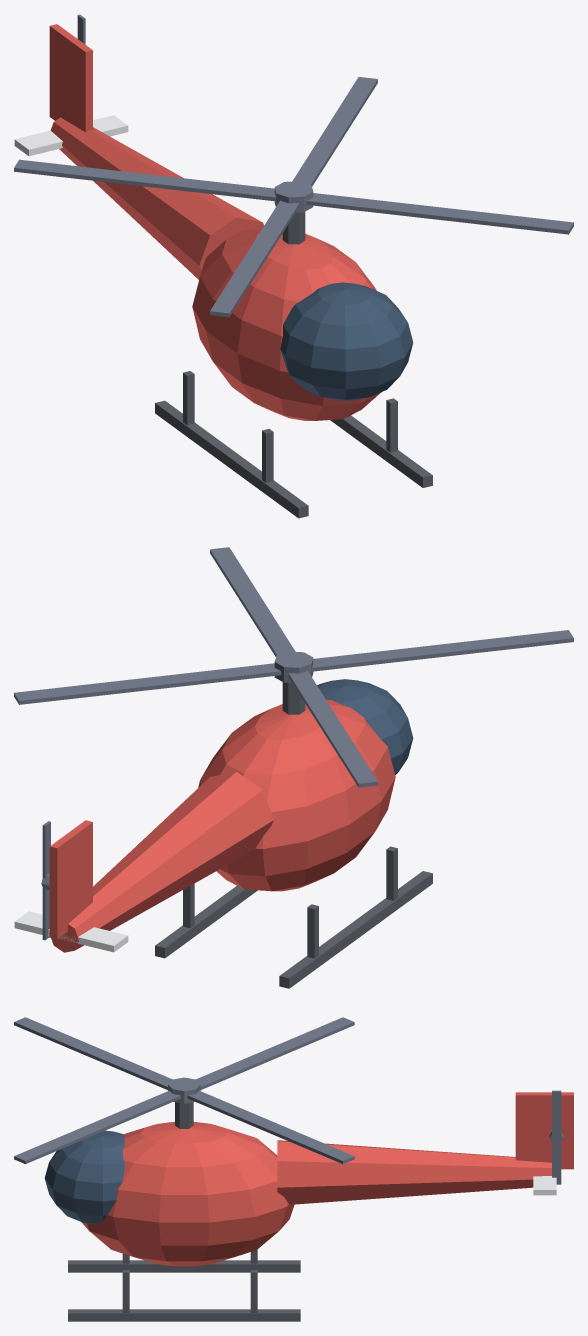
Rendered from helicopter.glb.
3 renders of one model, top to bottom at view 1: azimuth 30°, elevation 25°; view 2: azimuth 150°, elevation 25°; view 3: azimuth 270°, elevation 25°, orthographic. The views are drawn at different scales.
Visible parts, largest first — view 1: helicopter_body, Rotor; view 2: helicopter_body, Rotor, RotorTail; view 3: helicopter_body, Rotor, RotorTail.
Boxes of the visible parts, box(x1,y1,x2,y2) form: helicopter_body: box(14, 24, 432, 518); Rotor: box(14, 77, 573, 317); helicopter_body: box(14, 679, 432, 988); Rotor: box(14, 547, 573, 787); RotorTail: box(41, 821, 50, 940); helicopter_body: box(44, 1092, 573, 1321); Rotor: box(14, 1017, 354, 1163); RotorTail: box(549, 1090, 563, 1184).
Bounding box in the file's own units: 0.2927 × 0.2 × 0.4814.
